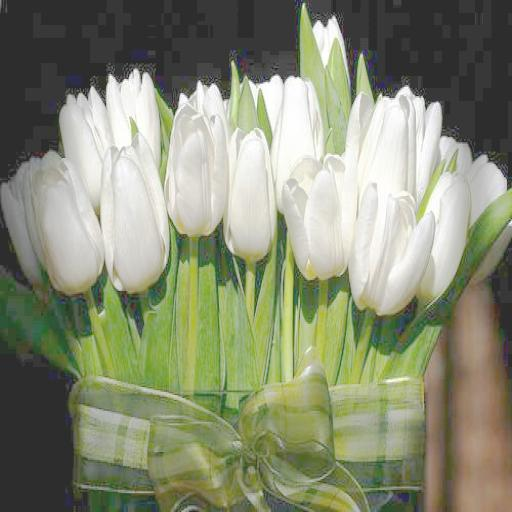tulip: (350, 182, 435, 310), (101, 133, 169, 291), (282, 155, 358, 278), (164, 100, 228, 237), (60, 85, 118, 204), (226, 128, 276, 258)
